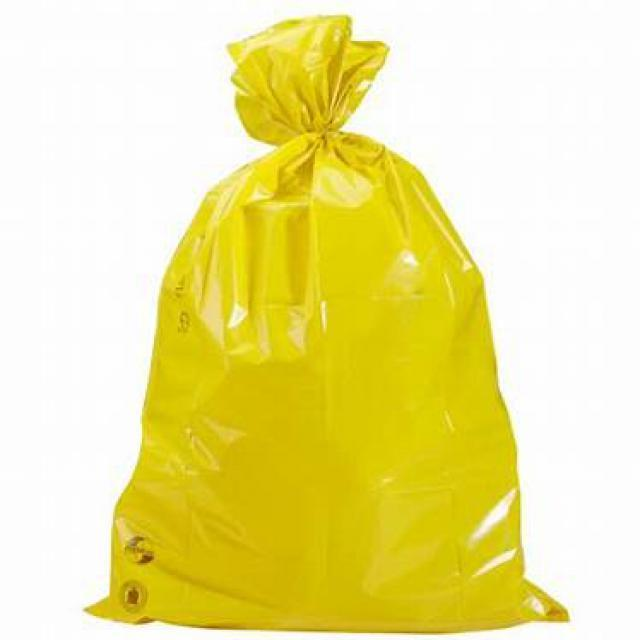waste: (110, 9, 564, 634)
